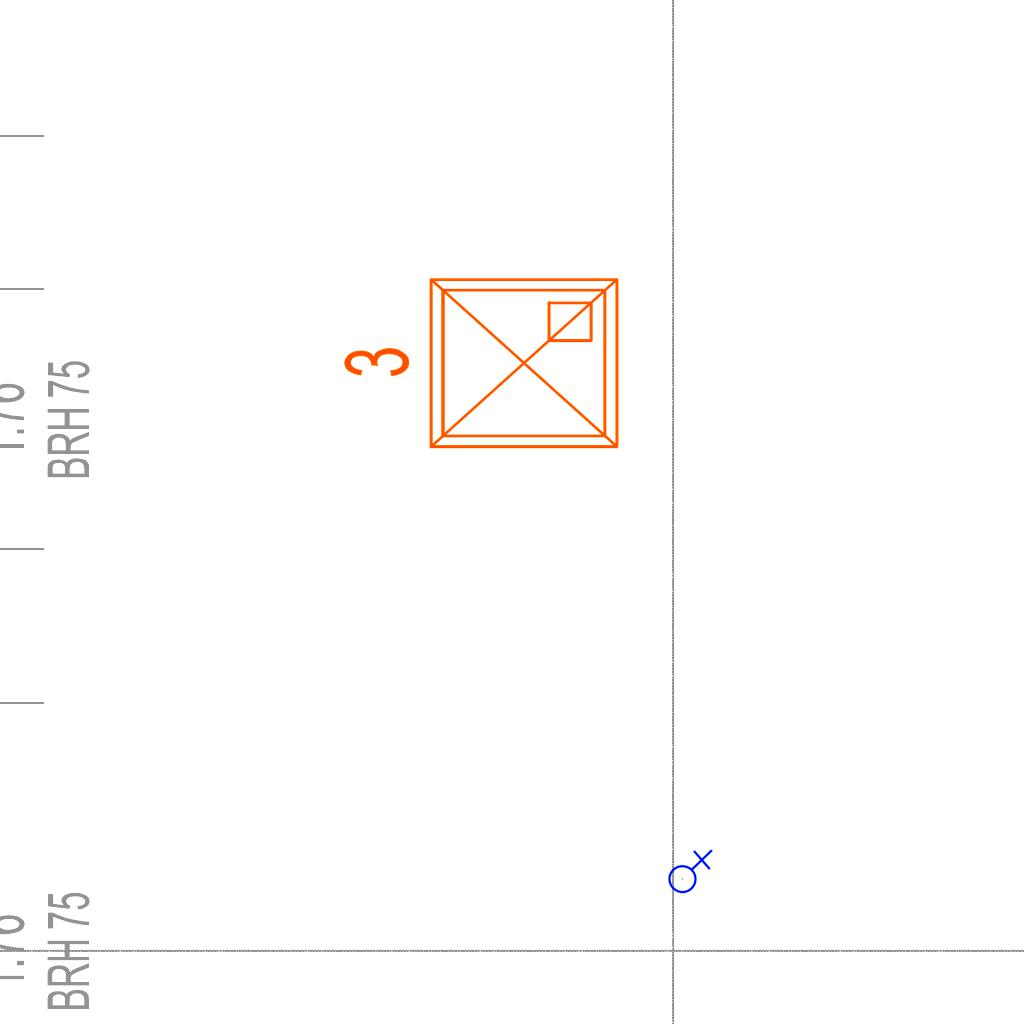Einbaudownlights_LED_Konferenzraeume: (333, 263, 633, 471)
Elektroanschluss_allgemein_230V_Geraeteanschlussdose_230V: (664, 847, 713, 894)
